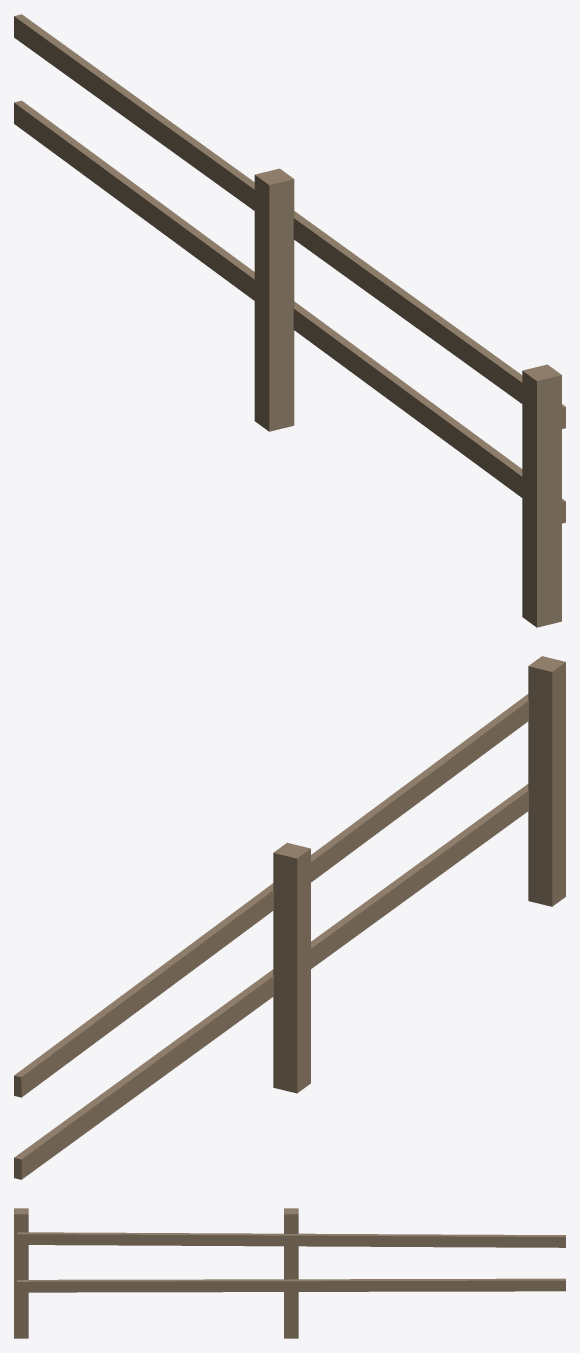
The model's file is fence.glb.
3 views of the same model, one above another, from view 1: azimuth 30°, elevation 25°; view 2: azimuth 150°, elevation 25°; view 3: azimuth 270°, elevation 25° (orthographic). The views are drawn at different scales.
Visible parts, largest first — view 1: fence; view 2: fence; view 3: fence.
Part boxes in pixels (bbox=[...]): fence: bbox=[14, 14, 565, 627]; fence: bbox=[14, 656, 565, 1179]; fence: bbox=[14, 1208, 565, 1338].
Bounding box in the file's own units: 0.205 × 1.5 × 6.03.
